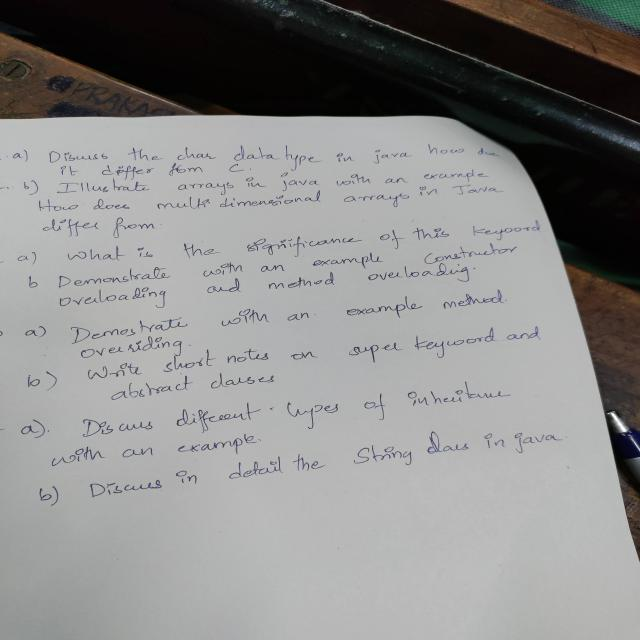paper: (13, 122, 500, 640)
